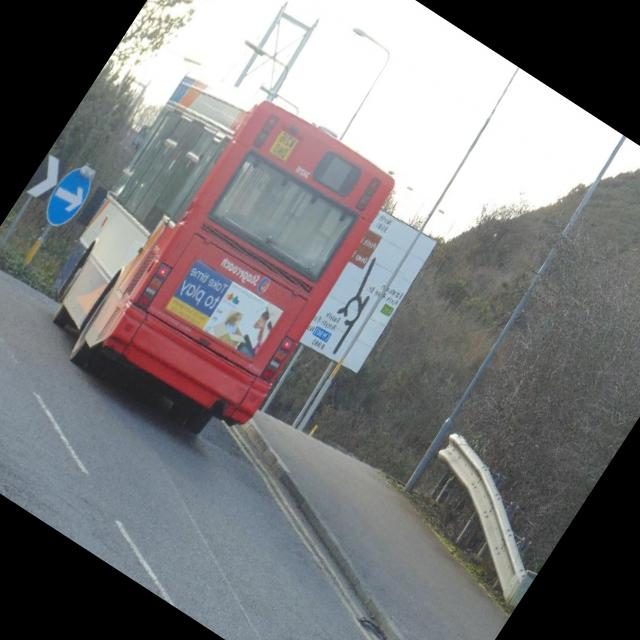bus: (17, 43, 406, 454)
